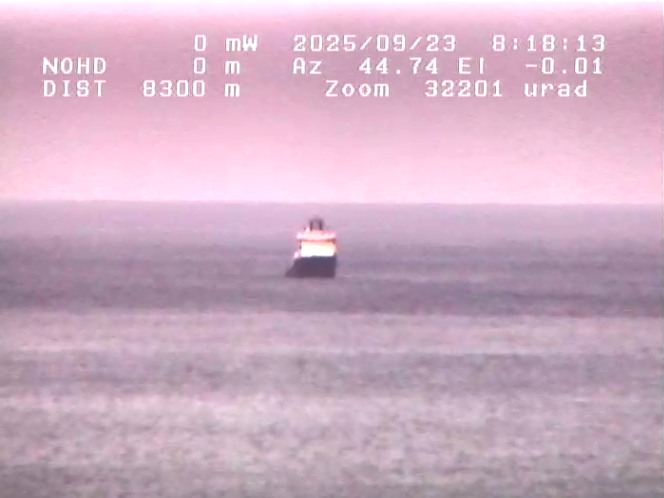TANKER: (284, 205, 346, 296)
